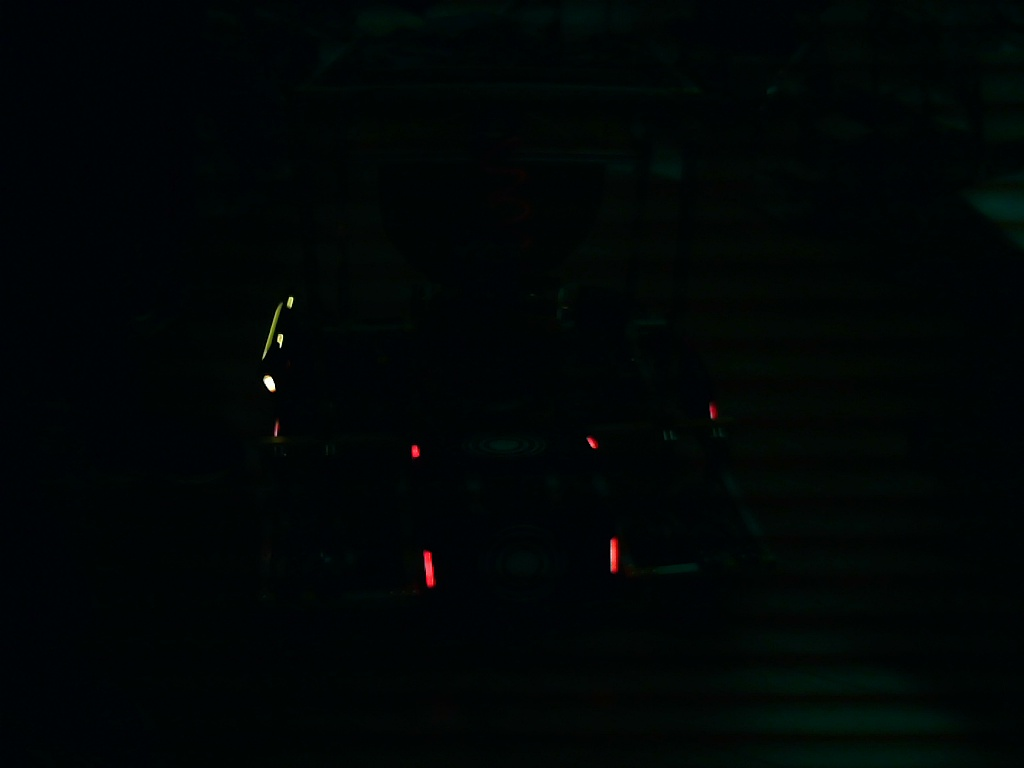lamp: (419, 545, 439, 593), (607, 534, 620, 577)
